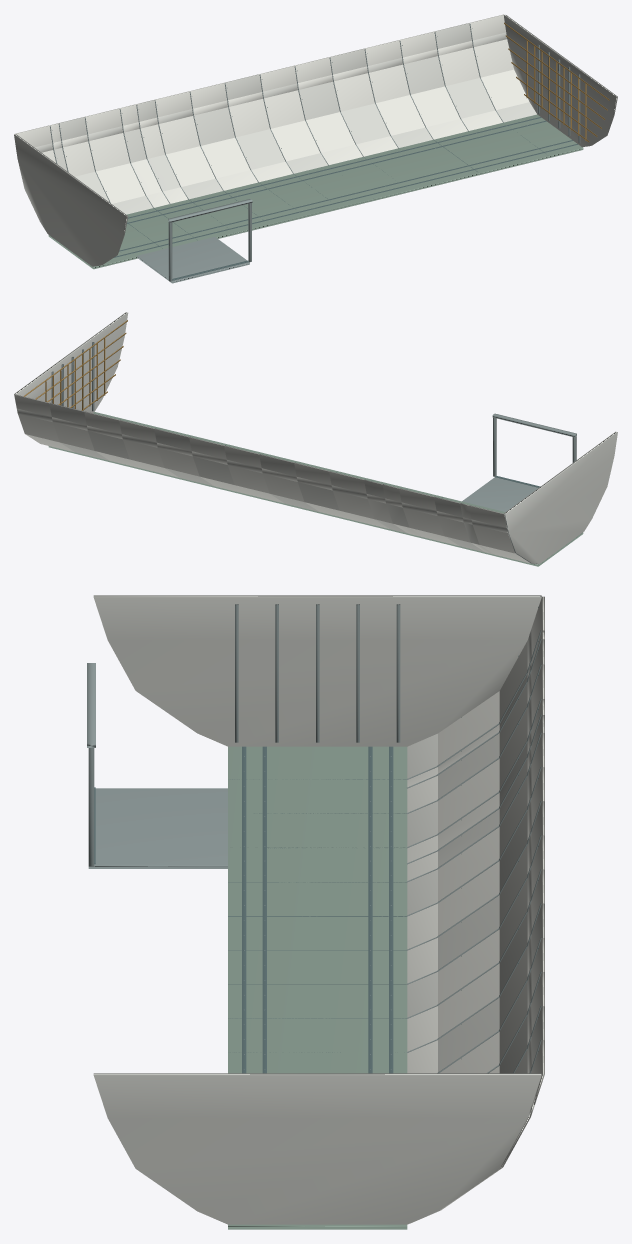
3 views of the same model, one above another, from view 1: azimuth 30°, elevation 25°; view 2: azimuth 150°, elevation 25°; view 3: azimuth 270°, elevation 25° (orthographic). The views are drawn at different scales.
Parts seen in each view (by area): view 1: load_floor, bulkhead_0, bulkhead_7.7, entry_pocket_floor, liner_1_6_1, liner_1_10_1, liner_1_3_1, liner_1_8_1, liner_1_11_1, liner_1_12_1, liner_1_13_1, liner_1_7_1 (+49 smaller); view 2: bulkhead_0, bulkhead_7.7, load_floor, entry_pocket_floor, liner_1_0_2, liner_1_11_2, liner_1_9_2, liner_1_10_2, liner_1_6_2, liner_1_8_2, liner_1_13_2, liner_1_14_2 (+20 smaller); view 3: bulkhead_7.7, load_floor, bulkhead_0, entry_pocket_floor, liner_1_3_1, liner_1_9_1, liner_1_11_1, liner_1_7_1, liner_1_8_1, liner_1_10_1, liner_1_6_1, liner_1_0_1 (+25 smaller).
Boxes of the visible parts, x1=… form: load_floor: x1=48, y1=114, x2=583, y2=269; bulkhead_0: x1=14, y1=134, x2=128, y2=266; bulkhead_7.7: x1=503, y1=15, x2=617, y2=146; entry_pocket_floor: x1=137, y1=237, x2=249, y2=283; liner_1_6_1: x1=166, y1=146, x2=215, y2=186; liner_1_10_1: x1=306, y1=112, x2=355, y2=152; liner_1_3_1: x1=96, y1=163, x2=145, y2=203; liner_1_8_1: x1=236, y1=129, x2=285, y2=169; liner_1_11_1: x1=341, y1=103, x2=390, y2=144; liner_1_12_1: x1=376, y1=95, x2=425, y2=135; liner_1_13_1: x1=411, y1=86, x2=460, y2=127; liner_1_7_1: x1=201, y1=137, x2=250, y2=178; bulkhead_0: x1=504, y1=431, x2=617, y2=563; bulkhead_7.7: x1=14, y1=312, x2=128, y2=413; load_floor: x1=48, y1=412, x2=583, y2=566; entry_pocket_floor: x1=462, y1=477, x2=538, y2=511; liner_1_0_2: x1=473, y1=525, x2=514, y2=553; liner_1_11_2: x1=158, y1=448, x2=199, y2=476; liner_1_9_2: x1=228, y1=465, x2=269, y2=493; liner_1_10_2: x1=193, y1=456, x2=234, y2=484; liner_1_6_2: x1=333, y1=490, x2=374, y2=519; liner_1_8_2: x1=263, y1=473, x2=304, y2=501; liner_1_13_2: x1=88, y1=431, x2=129, y2=459; liner_1_14_2: x1=53, y1=422, x2=94, y2=450; bulkhead_7.7: x1=93, y1=1073, x2=541, y2=1224; load_floor: x1=228, y1=746, x2=407, y2=1229; bulkhead_0: x1=93, y1=595, x2=541, y2=746; entry_pocket_floor: x1=88, y1=788, x2=227, y2=868; liner_1_3_1: x1=438, y1=758, x2=499, y2=833; liner_1_9_1: x1=438, y1=929, x2=499, y2=1003; liner_1_11_1: x1=438, y1=997, x2=499, y2=1072; liner_1_7_1: x1=438, y1=861, x2=499, y2=935; liner_1_8_1: x1=438, y1=895, x2=499, y2=969; liner_1_10_1: x1=438, y1=963, x2=499, y2=1037; liner_1_6_1: x1=438, y1=827, x2=499, y2=901; liner_1_0_1: x1=438, y1=691, x2=499, y2=764.
Bounding box in the file's own units: 7.74 × 3.12 × 1.17.
